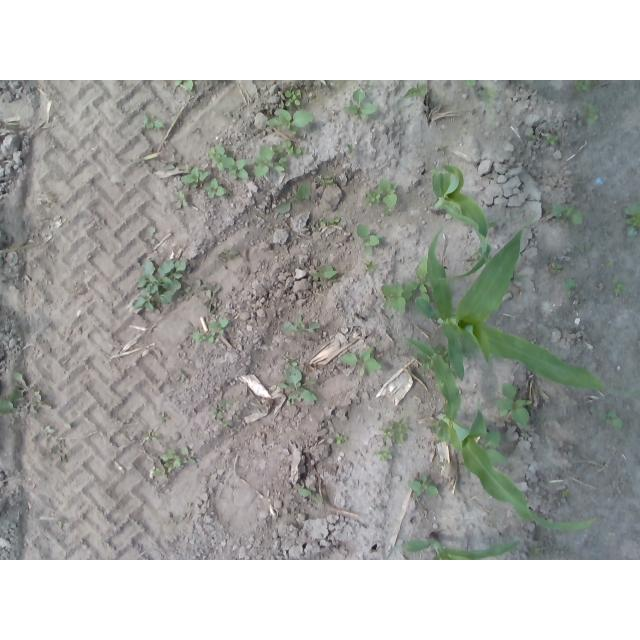Maize: (426, 212, 640, 398), (401, 333, 597, 535), (428, 163, 490, 281), (401, 532, 521, 561)
Weeds: (133, 256, 187, 312), (381, 256, 431, 315), (489, 382, 533, 430), (0, 371, 40, 416), (205, 145, 251, 180), (279, 366, 318, 406), (338, 346, 382, 376), (253, 143, 289, 179), (363, 178, 398, 215), (266, 109, 314, 135), (273, 183, 311, 214), (343, 88, 377, 120), (195, 278, 221, 314), (381, 417, 412, 446), (355, 222, 383, 254), (161, 446, 196, 471), (550, 202, 583, 227), (207, 398, 234, 428), (407, 475, 439, 498), (180, 164, 209, 188), (283, 315, 321, 333), (596, 409, 625, 431), (623, 201, 640, 237), (310, 264, 339, 285), (204, 178, 228, 200), (580, 102, 601, 125), (296, 487, 322, 505), (309, 215, 341, 229), (404, 82, 429, 99), (285, 140, 309, 157), (569, 80, 599, 93), (140, 114, 164, 130), (459, 341, 479, 360), (171, 190, 189, 211), (417, 351, 435, 371), (561, 277, 579, 297), (478, 87, 498, 105), (208, 318, 229, 335), (434, 344, 451, 365), (190, 331, 216, 344), (611, 276, 627, 296), (284, 90, 302, 107), (375, 446, 394, 462), (173, 80, 195, 90), (334, 431, 349, 445), (529, 546, 544, 560), (149, 467, 168, 478), (144, 429, 160, 442), (542, 135, 559, 146), (285, 356, 300, 368), (363, 260, 377, 272), (436, 459, 449, 471), (512, 272, 525, 284), (320, 175, 334, 186), (224, 249, 238, 259), (164, 161, 177, 171), (429, 421, 440, 432), (462, 81, 479, 88), (558, 488, 570, 497), (552, 262, 564, 270), (487, 221, 500, 228), (605, 258, 614, 267), (348, 143, 356, 153), (527, 133, 538, 140), (580, 245, 585, 251)
